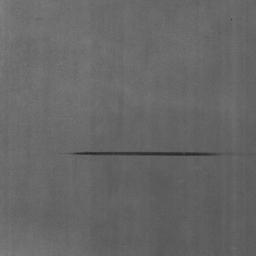Crease: (68, 152, 222, 156)
